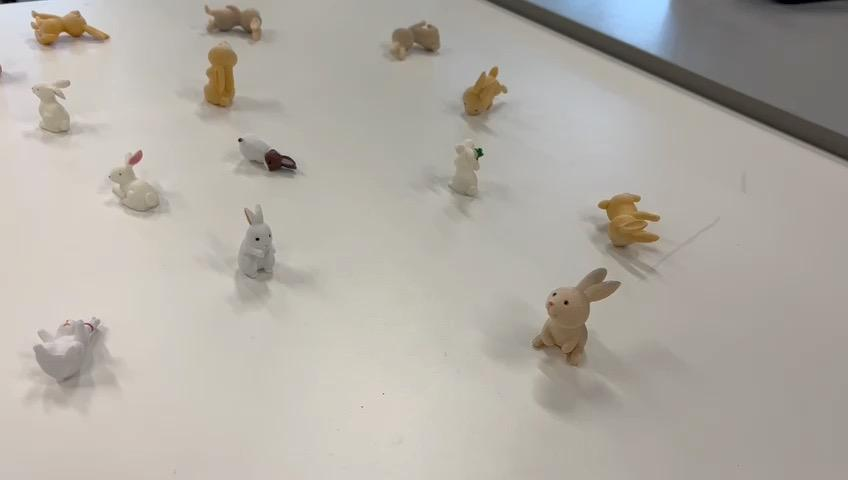pet: (528, 262, 625, 376), (25, 302, 112, 395), (586, 177, 669, 264), (99, 145, 171, 218), (23, 0, 119, 54), (236, 201, 287, 290), (26, 70, 83, 144), (231, 131, 304, 184), (197, 40, 245, 115), (195, 0, 276, 44), (460, 61, 515, 123), (388, 15, 452, 63), (442, 138, 491, 193)
